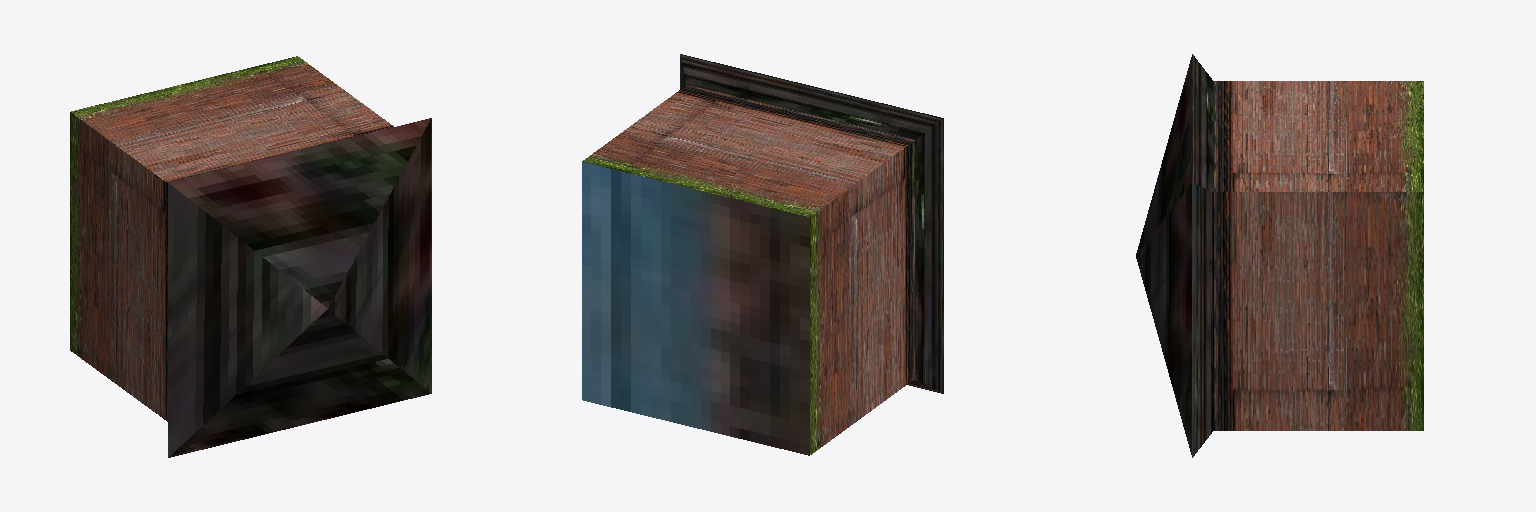
The picture shows the model from 3 angles: view 1: azimuth 30°, elevation 25°; view 2: azimuth 150°, elevation 25°; view 3: azimuth 270°, elevation 25°; orthographic projection.
Bounding box in the file's own units: 11.56 × 11.56 × 10.96.
Materials: 1 (1 with a texture image).